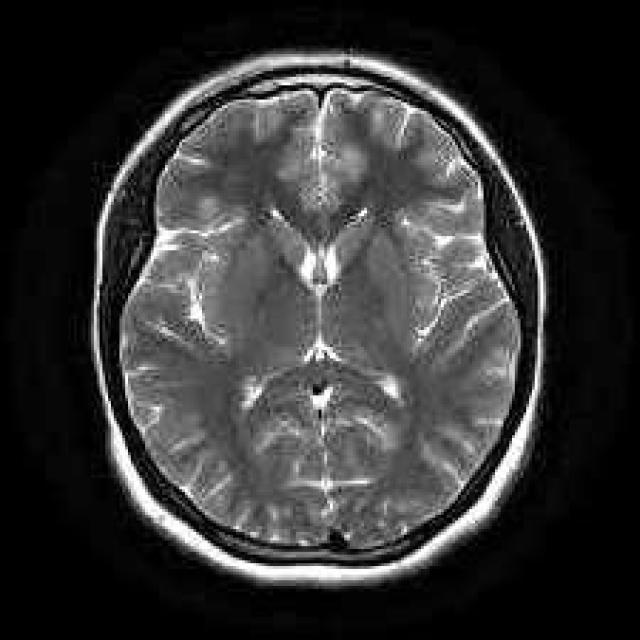No_Tumor: (91, 52, 546, 584)
